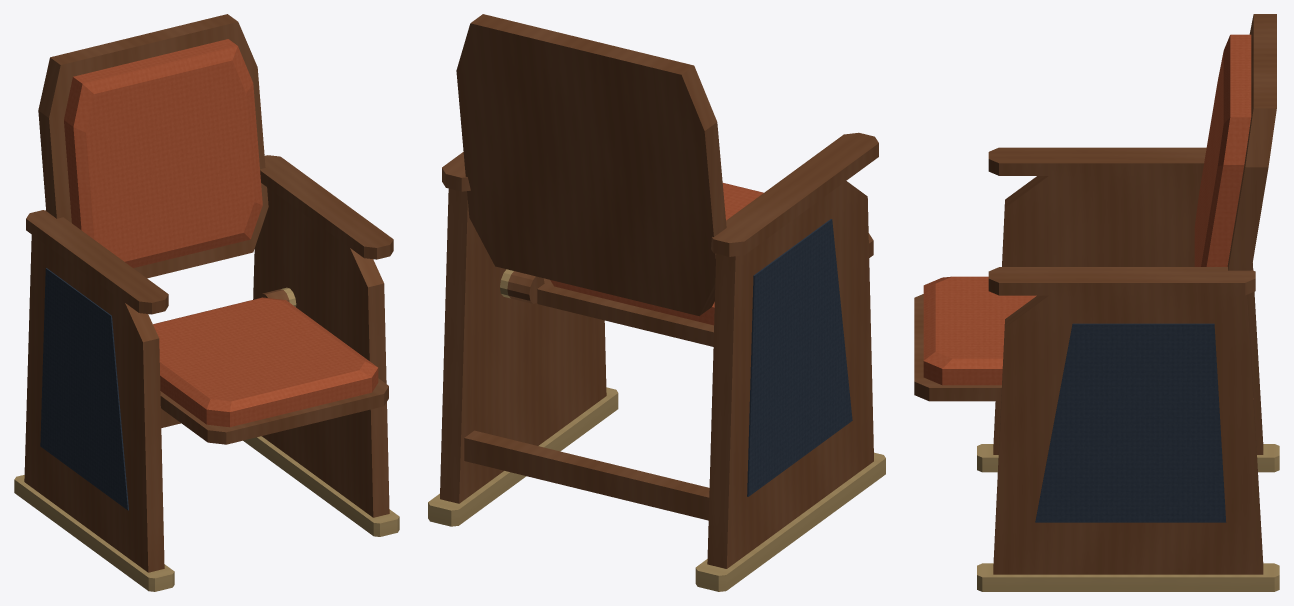
Rendered from AST-CUL-003.glb.
The picture shows the model from 3 angles, left to right: view 1: azimuth 30°, elevation 25°; view 2: azimuth 150°, elevation 25°; view 3: azimuth 270°, elevation 25°; orthographic projection. The views are drawn at different scales.
Visible parts, largest first — view 1: AST-CUL-003__static__warm_walnut, AST-CUL-003__static__auditorium_amber_velvet, AST-CUL-003__PAN_HINGE_X__auditorium_amber_velvet, AST-CUL-003__static__auditorium_navy_fibre, AST-CUL-003__static__champagne_metal, AST-CUL-003__PAN_HINGE_X__warm_walnut; view 2: AST-CUL-003__static__warm_walnut, AST-CUL-003__static__auditorium_navy_fibre, AST-CUL-003__static__champagne_metal, AST-CUL-003__PAN_HINGE_X__warm_walnut, AST-CUL-003__PAN_HINGE_X__auditorium_amber_velvet; view 3: AST-CUL-003__static__warm_walnut, AST-CUL-003__static__auditorium_navy_fibre, AST-CUL-003__PAN_HINGE_X__auditorium_amber_velvet, AST-CUL-003__static__auditorium_amber_velvet, AST-CUL-003__static__champagne_metal, AST-CUL-003__PAN_HINGE_X__warm_walnut.
Part boxes in pixels (x1,y1,x2,y2): AST-CUL-003__static__warm_walnut: [24, 14, 393, 572]; AST-CUL-003__static__auditorium_amber_velvet: [64, 39, 262, 267]; AST-CUL-003__PAN_HINGE_X__auditorium_amber_velvet: [153, 297, 378, 427]; AST-CUL-003__static__auditorium_navy_fibre: [40, 268, 128, 510]; AST-CUL-003__static__champagne_metal: [14, 287, 399, 591]; AST-CUL-003__PAN_HINGE_X__warm_walnut: [160, 289, 388, 444]; AST-CUL-003__static__warm_walnut: [440, 14, 878, 568]; AST-CUL-003__static__auditorium_navy_fibre: [747, 219, 852, 496]; AST-CUL-003__static__champagne_metal: [428, 269, 885, 591]; AST-CUL-003__PAN_HINGE_X__warm_walnut: [507, 233, 873, 346]; AST-CUL-003__PAN_HINGE_X__auditorium_amber_velvet: [550, 183, 763, 325]; AST-CUL-003__static__warm_walnut: [988, 14, 1276, 574]; AST-CUL-003__static__auditorium_navy_fibre: [1035, 323, 1226, 522]; AST-CUL-003__PAN_HINGE_X__auditorium_amber_velvet: [923, 276, 1036, 385]; AST-CUL-003__static__auditorium_amber_velvet: [1194, 34, 1251, 266]; AST-CUL-003__static__champagne_metal: [977, 444, 1279, 591]; AST-CUL-003__PAN_HINGE_X__warm_walnut: [914, 294, 1001, 401].
Size of the model in its own units: 0.688 by 1.1 by 0.785.
4 materials, 4 textured.
